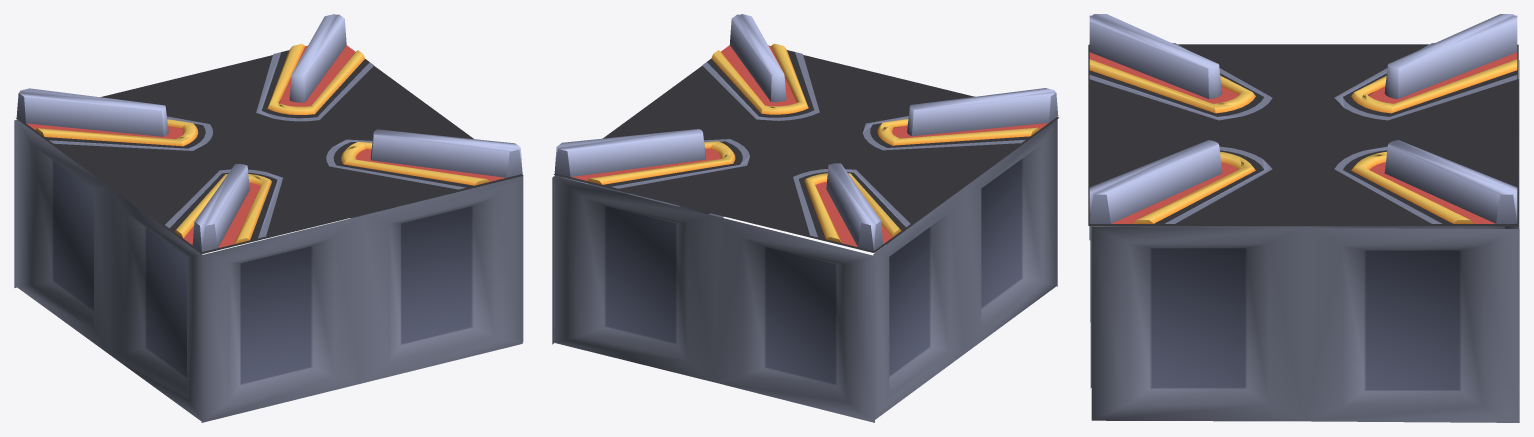
Rendered from elev-choke-4-way.glb.
3 views of the same model, side by side, from view 1: azimuth 30°, elevation 25°; view 2: azimuth 150°, elevation 25°; view 3: azimuth 270°, elevation 25° (orthographic). The views are drawn at different scales.
Parts seen in each view (by area): view 1: track-corner.007; view 2: track-corner.007; view 3: track-corner.007.
Boxes of the visible parts, left/top/right/bottom form: track-corner.007: left=14, top=14, right=523, bottom=422; track-corner.007: left=552, top=14, right=1058, bottom=422; track-corner.007: left=1088, top=14, right=1519, bottom=422.
Size of the model in its own units: 10.1 by 5.87 by 10.09.
6 materials, 6 textured.
